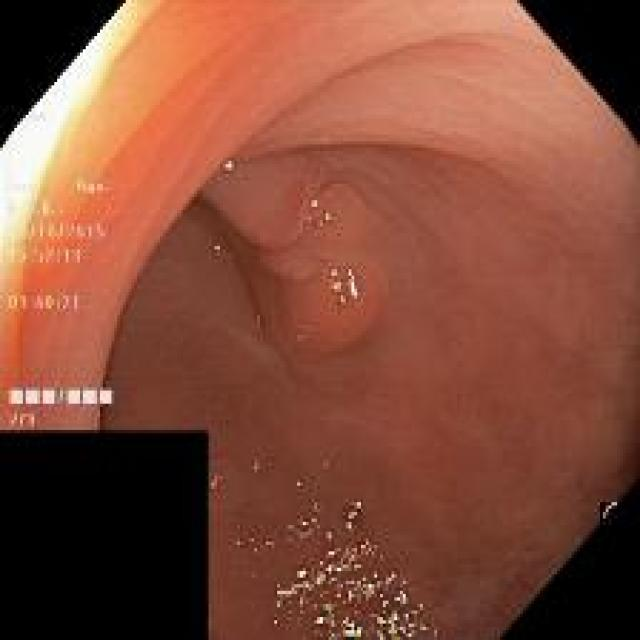Polyps: (204, 151, 388, 358)
